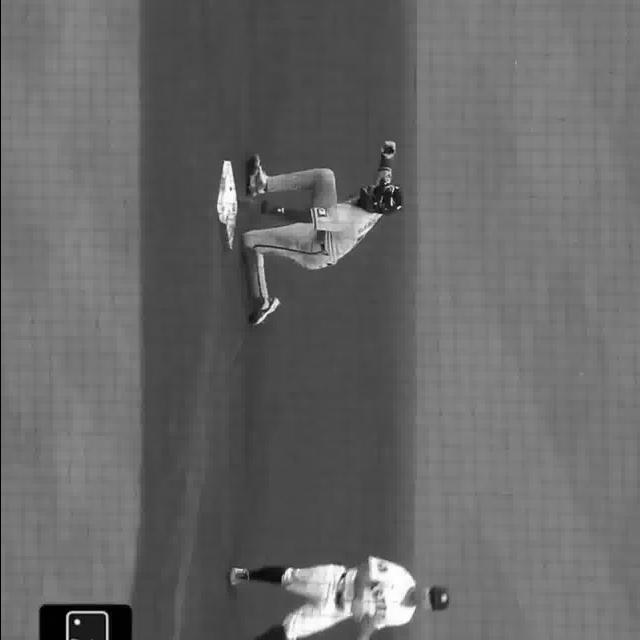base: (212, 156, 238, 252)
shoe: (247, 292, 277, 326), (242, 154, 264, 198), (226, 563, 244, 588)
